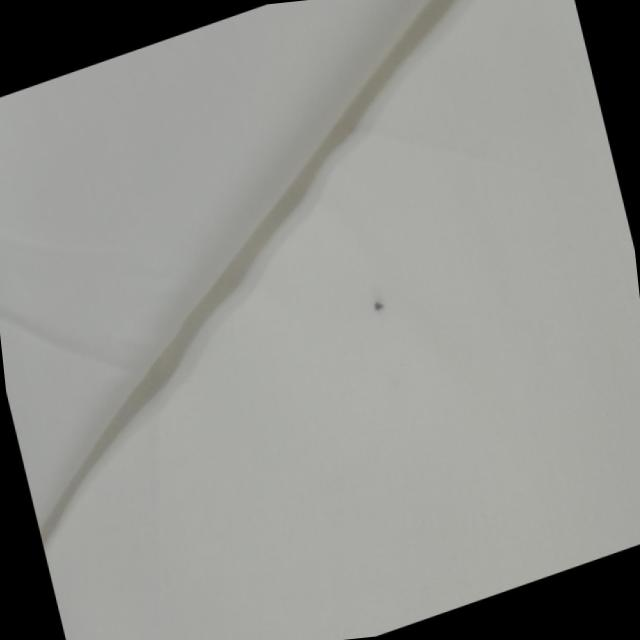stain: (362, 286, 396, 327)
